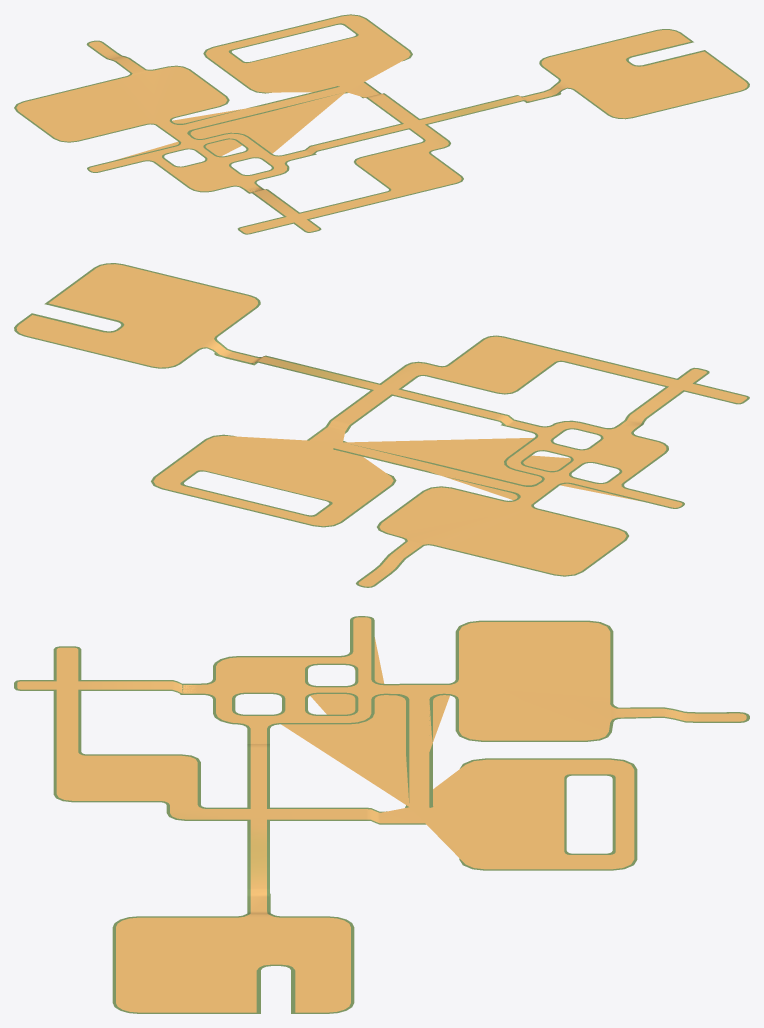
File: Map Unity  (1).fbx
The picture shows the model from 3 angles, top to bottom: view 1: azimuth 30°, elevation 25°; view 2: azimuth 150°, elevation 25°; view 3: azimuth 270°, elevation 25°; orthographic projection. The views are drawn at different scales.
Visible parts, largest first — view 1: Plane.054, Plane.046, Plane.001; view 2: Plane.054, Plane.001, Plane.046; view 3: Plane.054, Plane.001, Plane.046.
Boxes of the visible parts, x1,y1,x2,y2 form: Plane.054: (14, 14, 561, 234); Plane.046: (524, 29, 749, 119); Plane.001: (18, 14, 410, 193); Plane.054: (151, 335, 749, 587); Plane.001: (156, 424, 684, 587); Plane.046: (14, 263, 260, 368); Plane.054: (14, 616, 749, 912); Plane.001: (180, 616, 749, 870); Plane.046: (112, 893, 354, 1013).
Size of the model in its own units: 24.05 by 0.3416 by 18.46.
